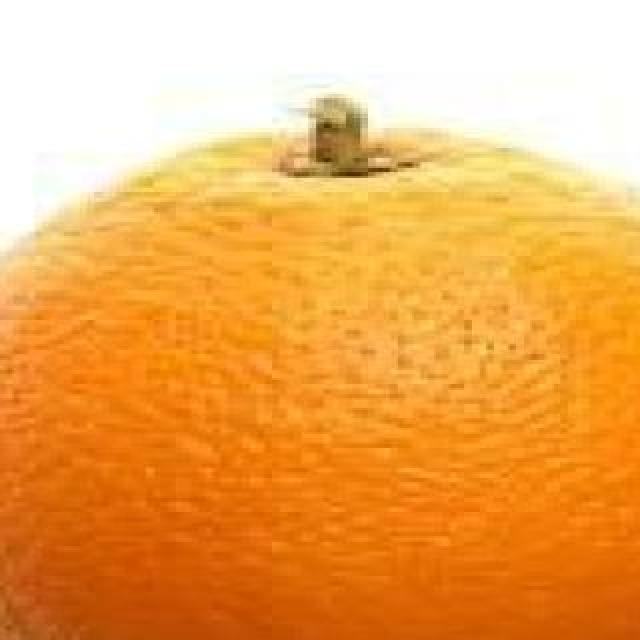orange: (0, 86, 640, 640)
